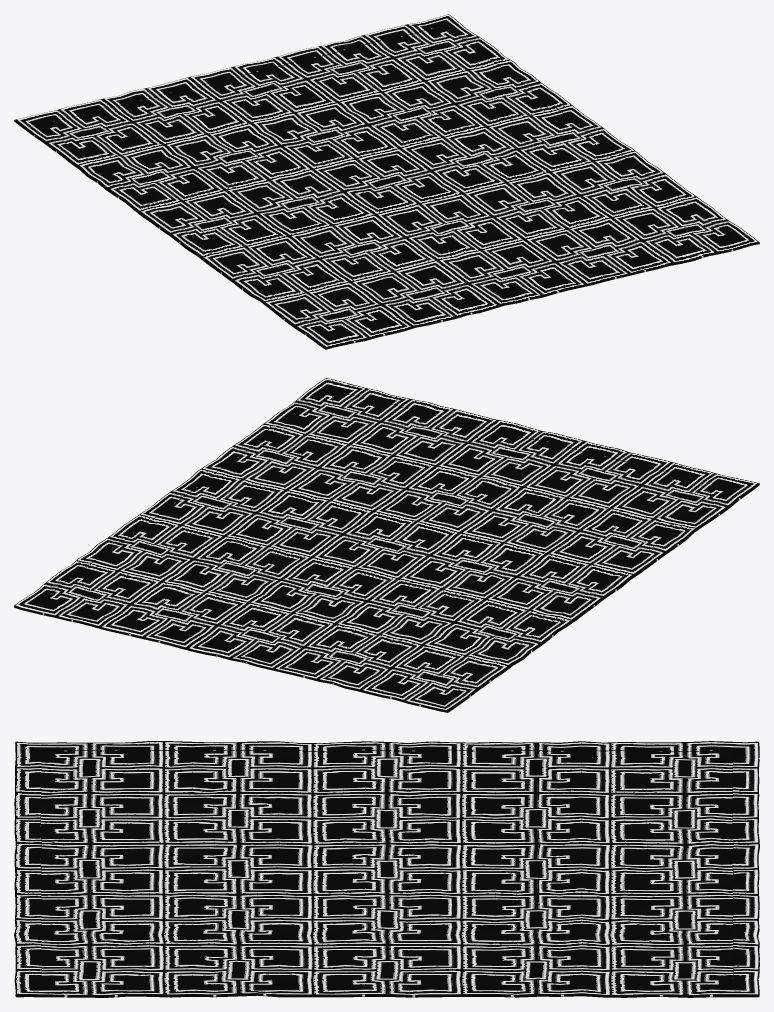
File: chuantongzhoshiditan03.FBX
3 renders of one model, top to bottom at view 1: azimuth 30°, elevation 25°; view 2: azimuth 150°, elevation 25°; view 3: azimuth 270°, elevation 25°, orthographic. The views are drawn at different scales.
Parts seen in each view (by area): view 1: ChamferBox02; view 2: ChamferBox02; view 3: ChamferBox02.
Boxes of the visible parts, left/top/right/bottom form: ChamferBox02: left=14, top=14, right=759, bottom=349; ChamferBox02: left=14, top=378, right=759, bottom=712; ChamferBox02: left=14, top=741, right=759, bottom=997.
Bounding box in the file's own units: 2066 × 18.7 × 2561.
1 material, 1 textured.
